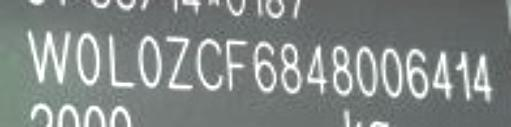letter: (21, 26, 73, 87), (70, 26, 103, 85), (190, 33, 223, 92), (135, 34, 166, 95), (104, 33, 137, 90), (162, 31, 190, 92), (352, 42, 380, 103), (222, 33, 250, 92), (404, 50, 432, 103), (304, 41, 330, 98), (250, 38, 275, 95), (377, 42, 403, 95), (472, 51, 495, 108), (279, 42, 302, 95), (430, 52, 453, 103), (331, 44, 351, 101), (453, 51, 473, 108)
